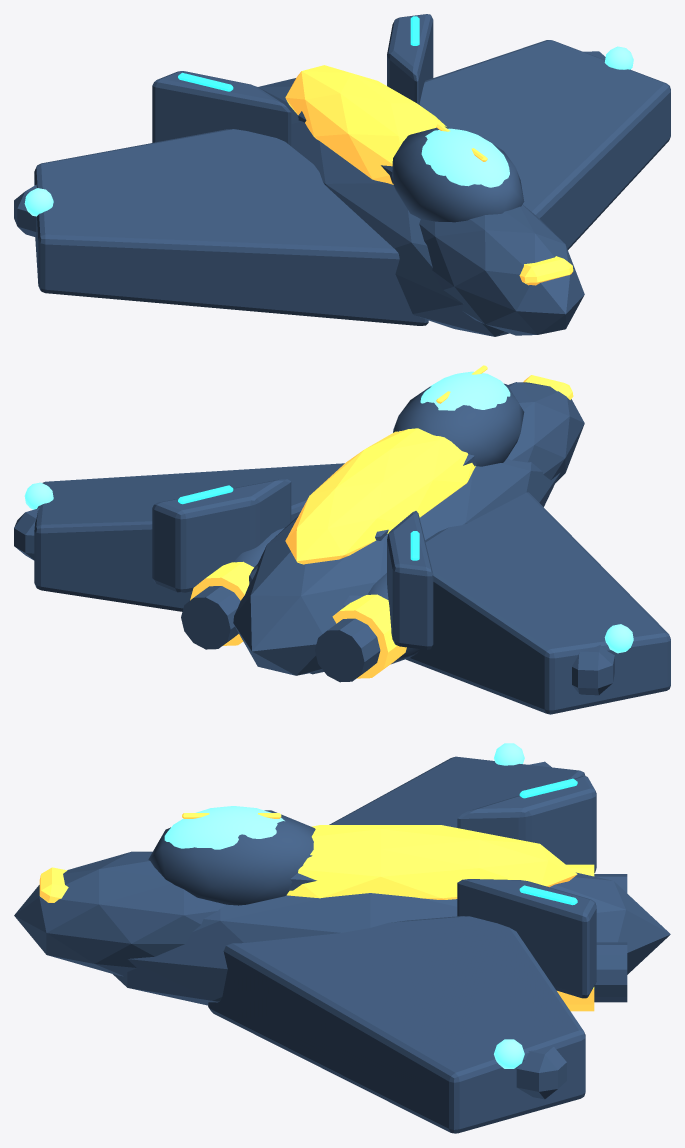
Rendered from spaceship.glb.
The picture shows the model from 3 angles, top to bottom: view 1: azimuth 30°, elevation 25°; view 2: azimuth 150°, elevation 25°; view 3: azimuth 270°, elevation 25°; orthographic projection. The views are drawn at different scales.
Parts seen in each view (by area): view 1: spaceship; view 2: spaceship; view 3: spaceship.
Boxes of the visible parts, x1,y1,x2,y2 form: spaceship: [14, 14, 670, 336]; spaceship: [14, 365, 670, 714]; spaceship: [14, 743, 670, 1133].
Bounding box in the file's own units: 3.67 × 1.09 × 3.17.
